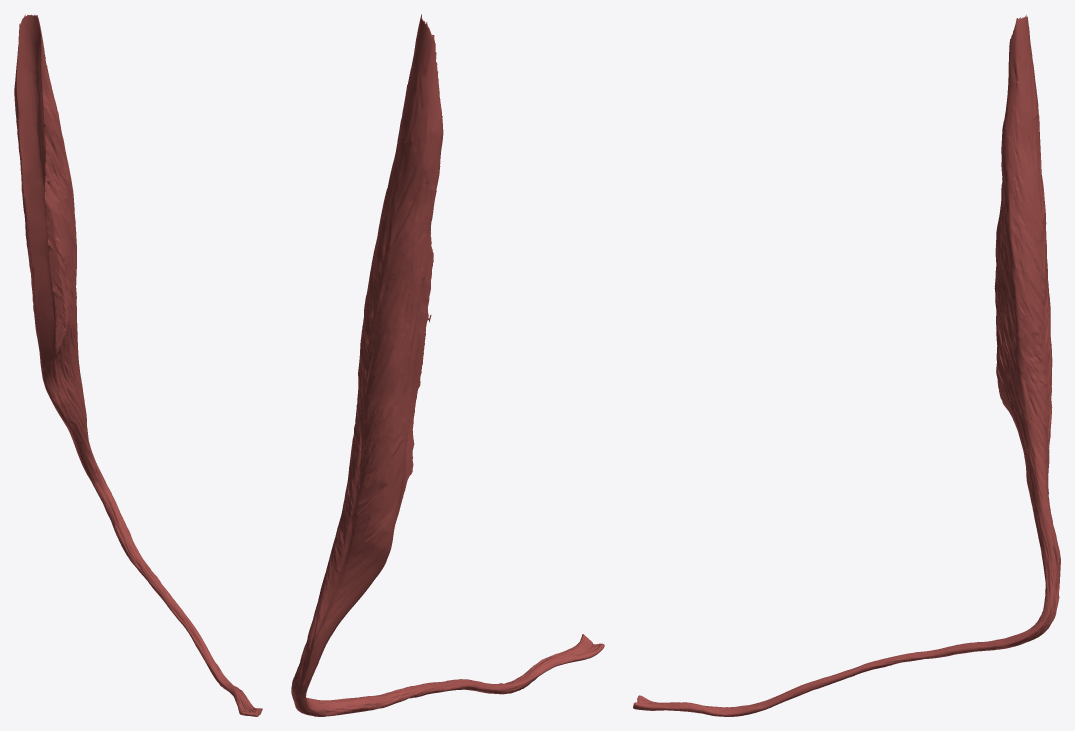
The model's file is FMA65014.glb.
3 views of the same model, side by side, from view 1: azimuth 30°, elevation 25°; view 2: azimuth 150°, elevation 25°; view 3: azimuth 270°, elevation 25° (orthographic). The views are drawn at different scales.
Parts seen in each view (by area): view 1: FMA65014; view 2: FMA65014; view 3: FMA65014.
Boxes of the visible parts, <box> form: FMA65014: <box>14,14,262,716</box>; FMA65014: <box>291,14,604,716</box>; FMA65014: <box>633,14,1060,716</box>.
Bounding box in the file's own units: 0.0548 × 0.3076 × 0.1789.
